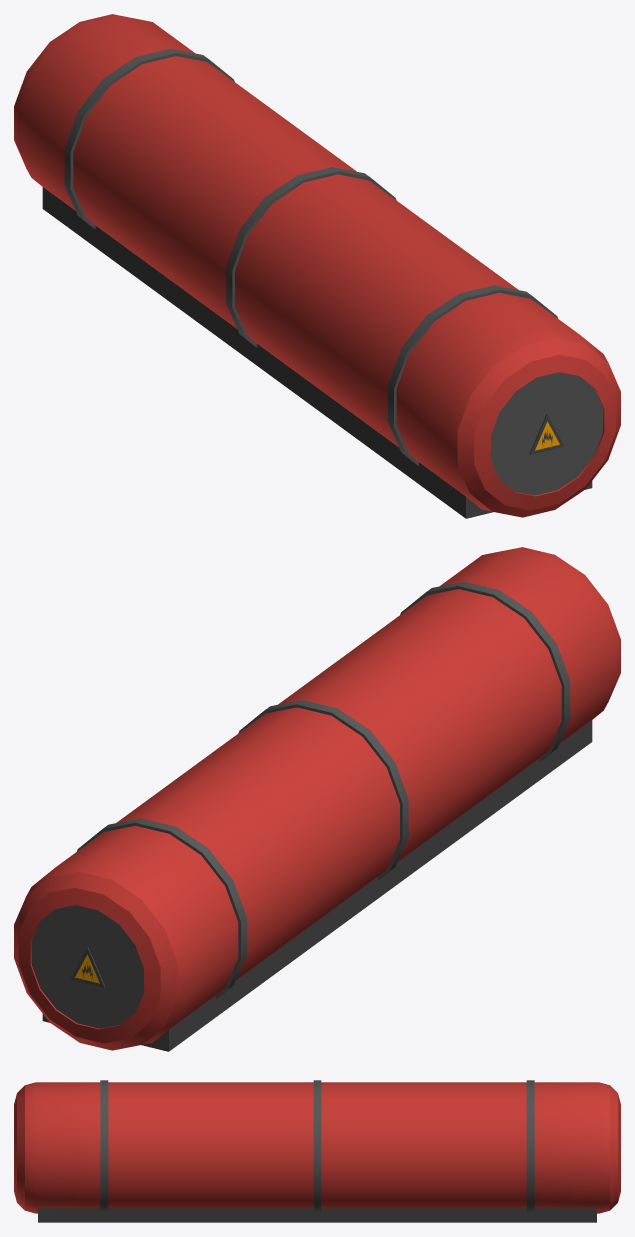
Rendered from SM_Vehicles_TrainPart_02.fbx.
3 renders of one model, top to bottom at view 1: azimuth 30°, elevation 25°; view 2: azimuth 150°, elevation 25°; view 3: azimuth 270°, elevation 25°, orthographic. The views are drawn at different scales.
Parts seen in each view (by area): view 1: SM_Vehicles_TrainPart_02; view 2: SM_Vehicles_TrainPart_02; view 3: SM_Vehicles_TrainPart_02.
Part boxes in pixels (box(x1,y1,x2,y2)): SM_Vehicles_TrainPart_02: box(14, 14, 620, 518); SM_Vehicles_TrainPart_02: box(14, 547, 620, 1051); SM_Vehicles_TrainPart_02: box(14, 1080, 620, 1222).
Size of the model in its own units: 3.62 by 3.62 by 16.31.
